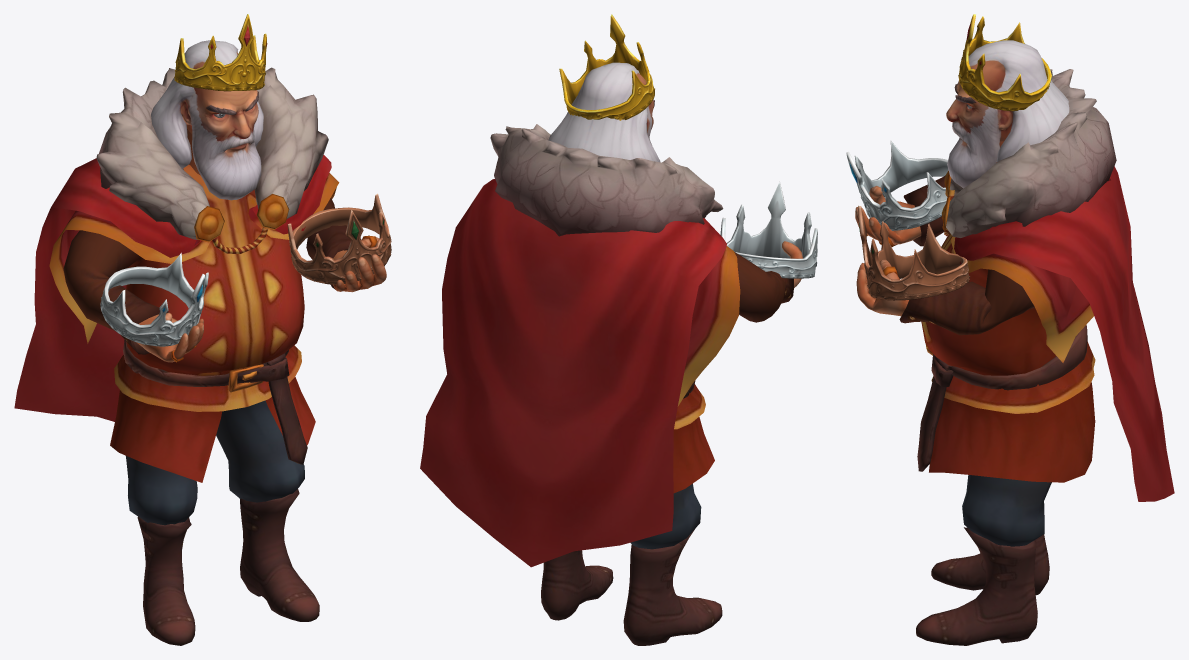
File: KingwCrowns.glb
3 renders of one model, left to right at view 1: azimuth 30°, elevation 25°; view 2: azimuth 150°, elevation 25°; view 3: azimuth 270°, elevation 25°, orthographic. The views are drawn at different scales.
Parts seen in each view (by area): view 1: King; view 2: King; view 3: King.
Boxes of the visible parts, x1,y1,x2,y2 form: King: [14, 14, 391, 645]; King: [420, 14, 817, 645]; King: [846, 14, 1174, 645].
Size of what is drawn, in the model's own units: 0.9162 by 1.83 by 0.8971.
4 materials, 4 textured.
